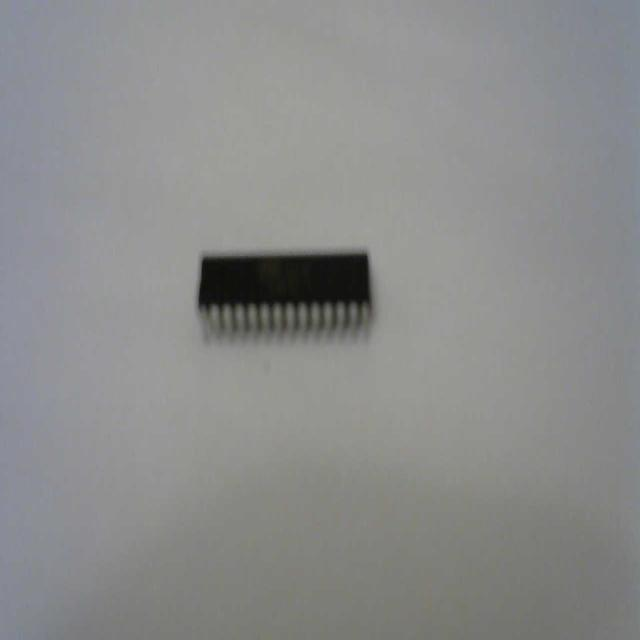atmega: (194, 244, 376, 350)
